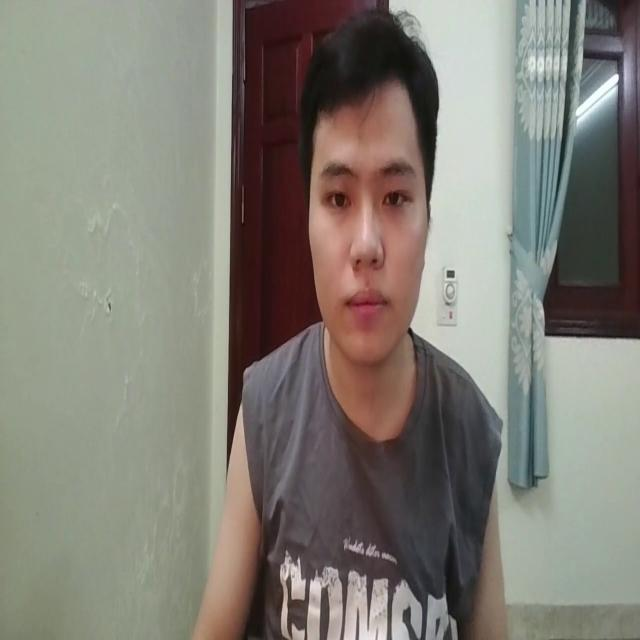student: (193, 0, 510, 640)
